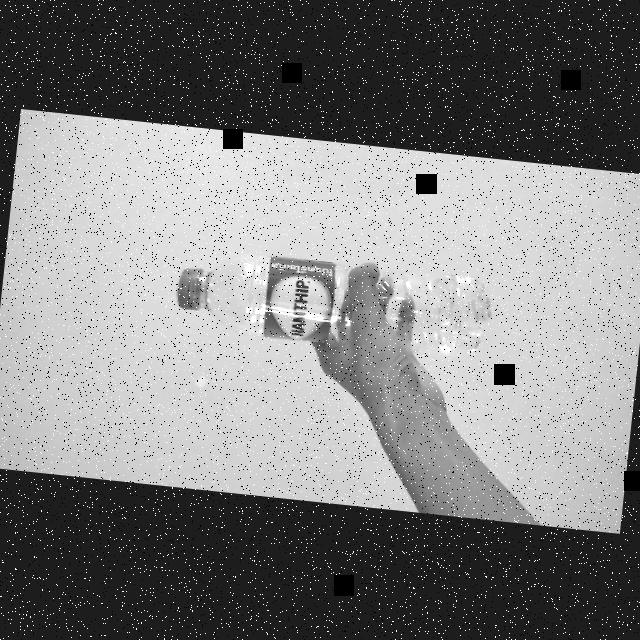plastic_bottle: (154, 231, 508, 361)
plastic_bottle_cap: (174, 260, 210, 312)
